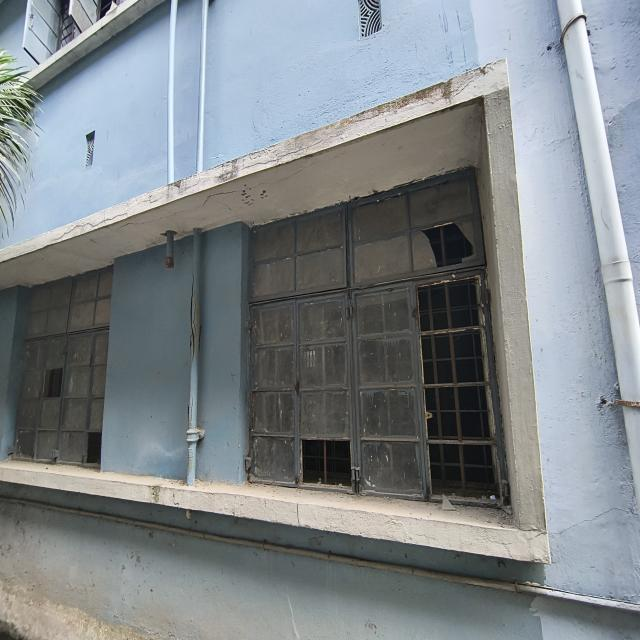Broken window pane: (246, 163, 514, 509), (12, 264, 117, 475)
Corrosion: (191, 273, 200, 357), (614, 399, 640, 407), (166, 256, 174, 269)
Crack: (112, 183, 264, 231), (213, 139, 326, 177), (549, 506, 630, 536), (50, 212, 128, 242)
